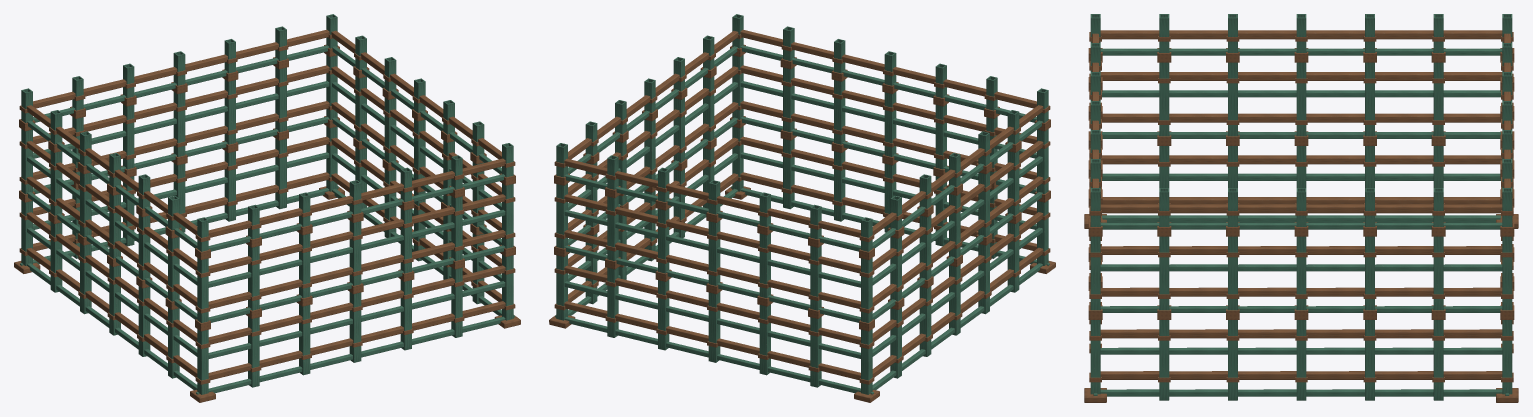
3 renders of one model, left to right at view 1: azimuth 30°, elevation 25°; view 2: azimuth 150°, elevation 25°; view 3: azimuth 270°, elevation 25°, orthographic. The views are drawn at different scales.
Visible parts, largest first — view 1: Tier 0 side 0 post 3, Tier 0 side 0 post 2, Tier 0 side 0 post 1, Tier 0 side 0 post 5, Tier 0 side 2 post 1, Tier 0 side 0 post 0, Tier 0 side 0 post 4, Tier 1 side 2 post 3, Tier 1 side 0 post 3, Tier 0 side 2 post 2, Tier 1 side 0 post 0, Tier 0 side 3 post 1 (+27 smaller); view 2: Tier 0 side 2 post 3, Tier 0 side 2 post 4, Tier 0 side 2 post 5, Tier 0 side 2 post 1, Tier 0 side 0 post 5, Tier 0 side 3 post 0, Tier 0 side 2 post 2, Tier 1 side 2 post 3, Tier 1 side 0 post 3, Tier 1 side 3 post 0, Tier 0 side 0 post 4, Tier 0 side 3 post 2 (+26 smaller); view 3: Tier 0 side 1 post 1, Tier 0 side 1 post 3, Tier 0 side 1 post 5, Tier 1 side 1 post 0, Tier 1 side 1 post 1, Tier 1 side 1 post 5, Tier 1 side 2 post 0, Tier 1 side 3 post 1, Tier 1 side 3 post 5, Tier 0 side 1 post 0, Tier 0 side 2 post 0, Tier 1 side 1 post 3 (+130 smaller).
Part boxes in pixels (x1,y1,x2,y2): Tier 0 side 0 post 3: (349,292,361,362); Tier 0 side 0 post 2: (299,304,310,375); Tier 0 side 0 post 1: (248,316,259,387); Tier 0 side 0 post 5: (451,267,462,337); Tier 0 side 2 post 1: (275,138,286,209); Tier 0 side 0 post 0: (197,329,208,394); Tier 0 side 0 post 4: (400,280,411,350); Tier 1 side 2 post 3: (173,92,185,156); Tier 1 side 0 post 3: (349,221,361,285); Tier 0 side 2 post 2: (224,151,235,221); Tier 1 side 0 post 0: (197,258,208,322); Tier 0 side 3 post 1: (50,222,62,292); Tier 0 side 2 post 3: (708,292,720,362); Tier 0 side 2 post 4: (759,304,770,375); Tier 0 side 2 post 5: (810,317,821,387); Tier 0 side 2 post 1: (607,267,618,337); Tier 0 side 0 post 5: (783,138,794,209); Tier 0 side 3 post 0: (861,329,872,394); Tier 0 side 2 post 2: (658,280,669,350); Tier 1 side 2 post 3: (708,221,720,285); Tier 1 side 0 post 3: (884,92,896,156); Tier 1 side 3 post 0: (861,258,872,322); Tier 0 side 0 post 4: (834,151,845,221); Tier 0 side 3 post 2: (919,286,931,356); Tier 0 side 1 post 1: (1159,320,1169,400); Tier 0 side 1 post 3: (1296,320,1306,400); Tier 0 side 1 post 5: (1433,320,1443,400); Tier 1 side 1 post 0: (1090,236,1100,310); Tier 1 side 1 post 1: (1159,236,1169,310); Tier 1 side 1 post 5: (1433,236,1443,310); Tier 1 side 2 post 0: (1502,236,1512,310); Tier 1 side 3 post 1: (1433,62,1443,136); Tier 1 side 3 post 5: (1159,62,1169,136); Tier 0 side 1 post 0: (1090,320,1100,394); Tier 0 side 2 post 0: (1502,320,1512,394); Tier 1 side 1 post 3: (1296,236,1306,310).
Size of the model in its own units: 2.85 by 1.51 by 2.85.
2 materials, 2 textured.
